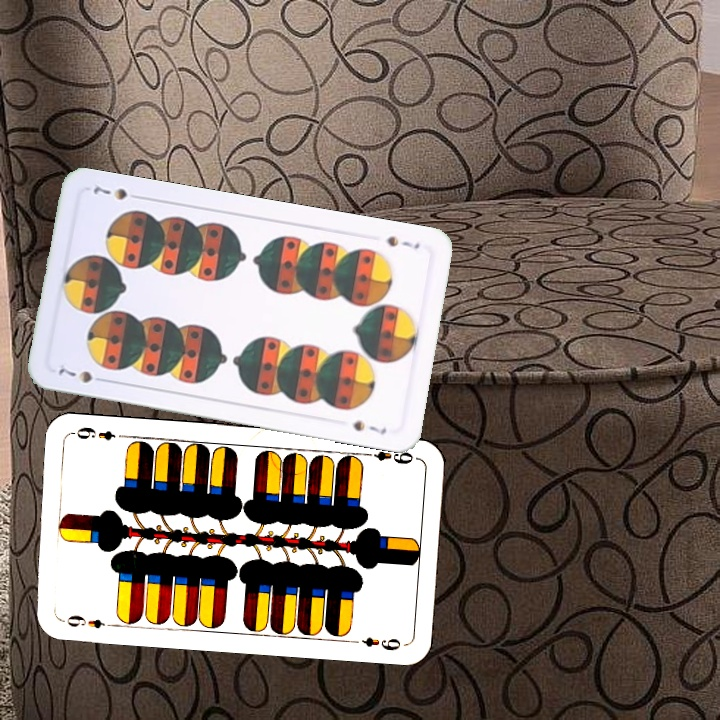E9: (360, 447, 416, 467), (57, 611, 107, 631)
S7: (51, 362, 110, 386), (382, 232, 422, 252)
